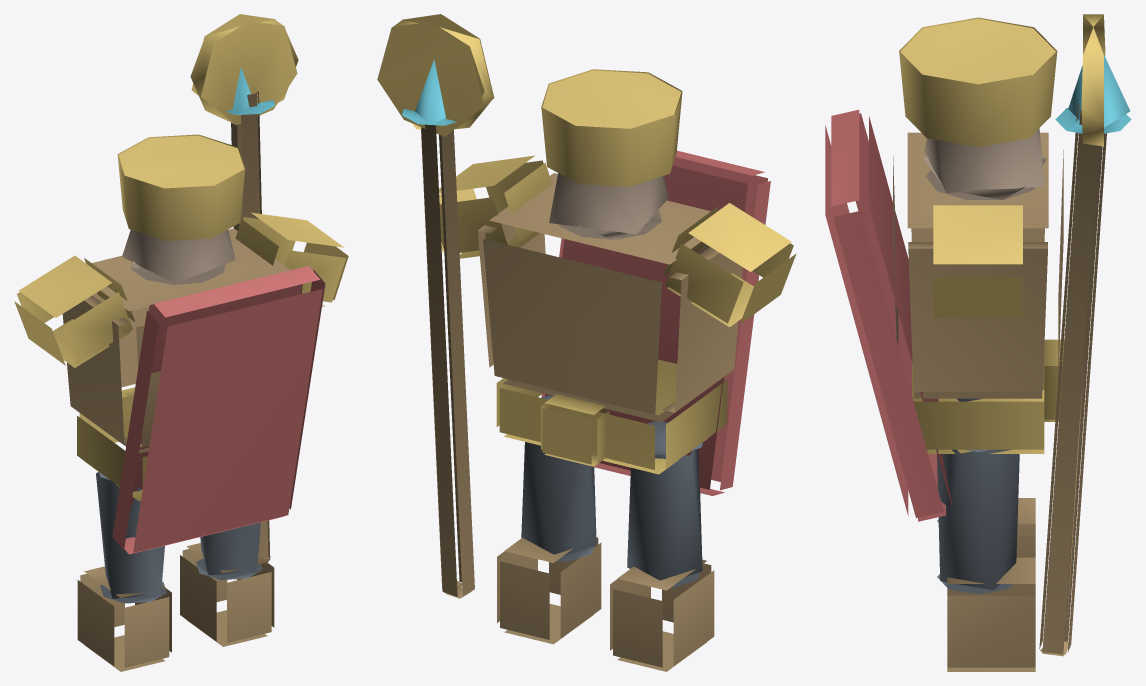
The model's file is field_scholar_hero_lod2.glb.
3 views of the same model, side by side, from view 1: azimuth 30°, elevation 25°; view 2: azimuth 150°, elevation 25°; view 3: azimuth 270°, elevation 25° (orthographic). The views are drawn at different scales.
Visible parts, largest first — view 1: field_scholar_hero.001; view 2: field_scholar_hero.001; view 3: field_scholar_hero.001.
Boxes of the visible parts, x1,y1,x2,y2 form: field_scholar_hero.001: (14,14,348,671); field_scholar_hero.001: (377,14,796,671); field_scholar_hero.001: (825,14,1131,671).
Size of the model in its own units: 1.33 by 2.33 by 0.9565.
